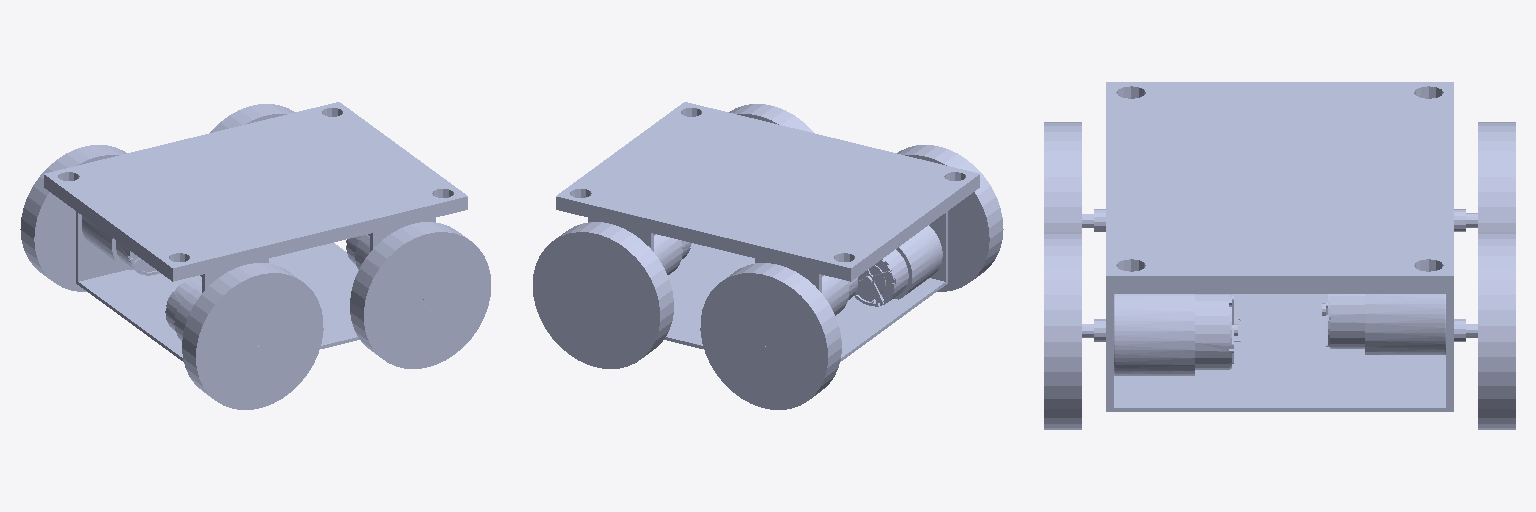
URDF robot description (mobilerobot_screen_updated):
<?xml version="1.0" encoding="utf-8"?>
<!-- This URDF was automatically created by SolidWorks to URDF Exporter! Originally created by [author] ([email redacted]) 
     Commit Version: 1.5.1-0-g916b5db  Build Version: 1.5.7152.31018
     For more information, please see http://wiki.ros.org/sw_urdf_exporter -->
<robot
  name="mobilerobot_screen_updated">
  <link
    name="base_link">
    <inertial>
      <origin
        xyz="0.000810967858665785 1.81241032373575E-17 0.0444342290670525"
        rpy="0 0 0" />
      <mass
        value="0.486203187138702" />
      <inertia
        ixx="0.000481101557057249"
        ixy="-3.2696618474039E-07"
        ixz="-3.25568358078485E-08"
        iyy="0.000700788079922037"
        iyz="9.07867673848143E-07"
        izz="0.00111135502004871" />
    </inertial>
    <visual>
      <origin
        xyz="0 0 0"
        rpy="0 0 0" />
      <geometry>
        <mesh
          filename="package://mobilerobot_screen_updated/meshes/base_link.STL" />
      </geometry>
      <material
        name="">
        <color
          rgba="0.792156862745098 0.819607843137255 0.933333333333333 1" />
      </material>
    </visual>
    <collision>
      <origin
        xyz="0 0 0"
        rpy="0 0 0" />
      <geometry>
        <mesh
          filename="package://mobilerobot_screen_updated/meshes/base_link.STL" />
      </geometry>
    </collision>
  </link>
  <link
    name="front_lw">
    <inertial>
      <origin
        xyz="0.0525000000000001 0.0875 0.0270000000000001"
        rpy="0 0 0" />
      <mass
        value="7.50019117729047E-05" />
      <inertia
        ixx="3.15647420744064E-08"
        ixy="2.42494716220721E-24"
        ixz="5.05895261584335E-24"
        iyy="6.03169124573288E-08"
        iyz="1.05217373916745E-24"
        izz="3.15647420744064E-08" />
    </inertial>
    <visual>
      <origin
        xyz="0 0 0"
        rpy="0 0 0" />
      <geometry>
        <mesh
          filename="package://mobilerobot_screen_updated/meshes/front_lw.STL" />
      </geometry>
      <material
        name="">
        <color
          rgba="0.792156862745098 0.819607843137255 0.933333333333333 1" />
      </material>
    </visual>
    <collision>
      <origin
        xyz="0 0 0"
        rpy="0 0 0" />
      <geometry>
        <mesh
          filename="package://mobilerobot_screen_updated/meshes/front_lw.STL" />
      </geometry>
    </collision>
  </link>
  <joint
    name="front_lj"
    type="revolute">
    <origin
      xyz="0 0 0"
      rpy="0 0 0" />
    <parent
      link="base_link" />
    <child
      link="front_lw" />
    <axis
      xyz="0 1 0" />
    <limit
      lower="0"
      upper="0"
      effort="0"
      velocity="0" />
  </joint>
  <link
    name="front_rw">
    <inertial>
      <origin
        xyz="0.0524999999999999 -0.0875 0.0270000000000001"
        rpy="0 0 0" />
      <mass
        value="7.50019117729047E-05" />
      <inertia
        ixx="3.15647420744064E-08"
        ixy="2.42494716220721E-24"
        ixz="4.84719437902978E-24"
        iyy="6.03169124573288E-08"
        iyz="1.05217373916745E-24"
        izz="3.15647420744064E-08" />
    </inertial>
    <visual>
      <origin
        xyz="0 0 0"
        rpy="0 0 0" />
      <geometry>
        <mesh
          filename="package://mobilerobot_screen_updated/meshes/front_rw.STL" />
      </geometry>
      <material
        name="">
        <color
          rgba="0.792156862745098 0.819607843137255 0.933333333333333 1" />
      </material>
    </visual>
    <collision>
      <origin
        xyz="0 0 0"
        rpy="0 0 0" />
      <geometry>
        <mesh
          filename="package://mobilerobot_screen_updated/meshes/front_rw.STL" />
      </geometry>
    </collision>
  </link>
  <joint
    name="front_rj"
    type="revolute">
    <origin
      xyz="0 0 0"
      rpy="0 0 0" />
    <parent
      link="base_link" />
    <child
      link="front_rw" />
    <axis
      xyz="0 -1 0" />
    <limit
      lower="0"
      upper="0"
      effort="0"
      velocity="0" />
  </joint>
  <link
    name="rear_lw">
    <inertial>
      <origin
        xyz="-0.0524999999999999 0.0875 0.0270000000000001"
        rpy="0 0 0" />
      <mass
        value="7.50019117729047E-05" />
      <inertia
        ixx="3.15647420744064E-08"
        ixy="2.84184619093394E-24"
        ixz="6.74302610392883E-24"
        iyy="6.03169124573289E-08"
        iyz="4.05318500150984E-25"
        izz="3.15647420744064E-08" />
    </inertial>
    <visual>
      <origin
        xyz="0 0 0"
        rpy="0 0 0" />
      <geometry>
        <mesh
          filename="package://mobilerobot_screen_updated/meshes/rear_lw.STL" />
      </geometry>
      <material
        name="">
        <color
          rgba="0.792156862745098 0.819607843137255 0.933333333333333 1" />
      </material>
    </visual>
    <collision>
      <origin
        xyz="0 0 0"
        rpy="0 0 0" />
      <geometry>
        <mesh
          filename="package://mobilerobot_screen_updated/meshes/rear_lw.STL" />
      </geometry>
    </collision>
  </link>
  <joint
    name="rear_lj"
    type="revolute">
    <origin
      xyz="0 0 0"
      rpy="0 0 0" />
    <parent
      link="base_link" />
    <child
      link="rear_lw" />
    <axis
      xyz="0 1 0" />
    <limit
      lower="0"
      upper="0"
      effort="0"
      velocity="0" />
  </joint>
  <link
    name="rear_rw">
    <inertial>
      <origin
        xyz="-0.0525 -0.0875 0.027"
        rpy="0 0 0" />
      <mass
        value="7.50019117729047E-05" />
      <inertia
        ixx="3.15647420744064E-08"
        ixy="2.63008795412036E-24"
        ixz="-3.32374741055698E-26"
        iyy="6.03169124573289E-08"
        iyz="1.98523347012726E-25"
        izz="3.15647420744064E-08" />
    </inertial>
    <visual>
      <origin
        xyz="0 0 0"
        rpy="0 0 0" />
      <geometry>
        <mesh
          filename="package://mobilerobot_screen_updated/meshes/rear_rw.STL" />
      </geometry>
      <material
        name="">
        <color
          rgba="0.792156862745098 0.819607843137255 0.933333333333333 1" />
      </material>
    </visual>
    <collision>
      <origin
        xyz="0 0 0"
        rpy="0 0 0" />
      <geometry>
        <mesh
          filename="package://mobilerobot_screen_updated/meshes/rear_rw.STL" />
      </geometry>
    </collision>
  </link>
  <joint
    name="rear_rj"
    type="revolute">
    <origin
      xyz="0 0 0"
      rpy="0 0 0" />
    <parent
      link="base_link" />
    <child
      link="rear_rw" />
    <axis
      xyz="0 -1 0" />
    <limit
      lower="0"
      upper="0"
      effort="0"
      velocity="0" />
  </joint>
</robot>

--- What the picture shows (computed from the rendered views, not written in the file) ---
Views: 3 orthographic renders of the robot side by side, from view 1: azimuth 30°, elevation 25°; view 2: azimuth 150°, elevation 25°; view 3: azimuth 270°, elevation 25°.
Robot: mobilerobot_screen_updated — 5 links, 4 joints (4 revolute); root link base_link; default pose: every joint at zero.
Links seen in each view (by area): view 1: base_link, rear_rw, front_rw, rear_lw, front_lw; view 2: base_link, front_lw, rear_lw, rear_rw, front_rw; view 3: base_link, front_lw, front_rw, rear_lw, rear_rw.
Boxes of the visible links, x1=… form: base_link: x1=44, y1=102, x2=467, y2=361; rear_rw: x1=182, y1=263, x2=323, y2=409; front_rw: x1=350, y1=222, x2=490, y2=368; rear_lw: x1=20, y1=145, x2=126, y2=291; front_lw: x1=210, y1=104, x2=294, y2=132; base_link: x1=556, y1=102, x2=979, y2=361; front_lw: x1=533, y1=222, x2=673, y2=368; rear_lw: x1=700, y1=263, x2=841, y2=409; rear_rw: x1=897, y1=145, x2=1003, y2=291; front_rw: x1=729, y1=104, x2=813, y2=132; base_link: x1=1082, y1=82, x2=1477, y2=411; front_lw: x1=1478, y1=232, x2=1515, y2=429; front_rw: x1=1044, y1=232, x2=1081, y2=429; rear_lw: x1=1478, y1=122, x2=1515, y2=231; rear_rw: x1=1044, y1=122, x2=1081, y2=231.
Size in the robot's own frame: 0.185 by 0.19 by 0.083 metres.
5 mesh visuals loaded from 5 distinct referenced files (5 binary STL).